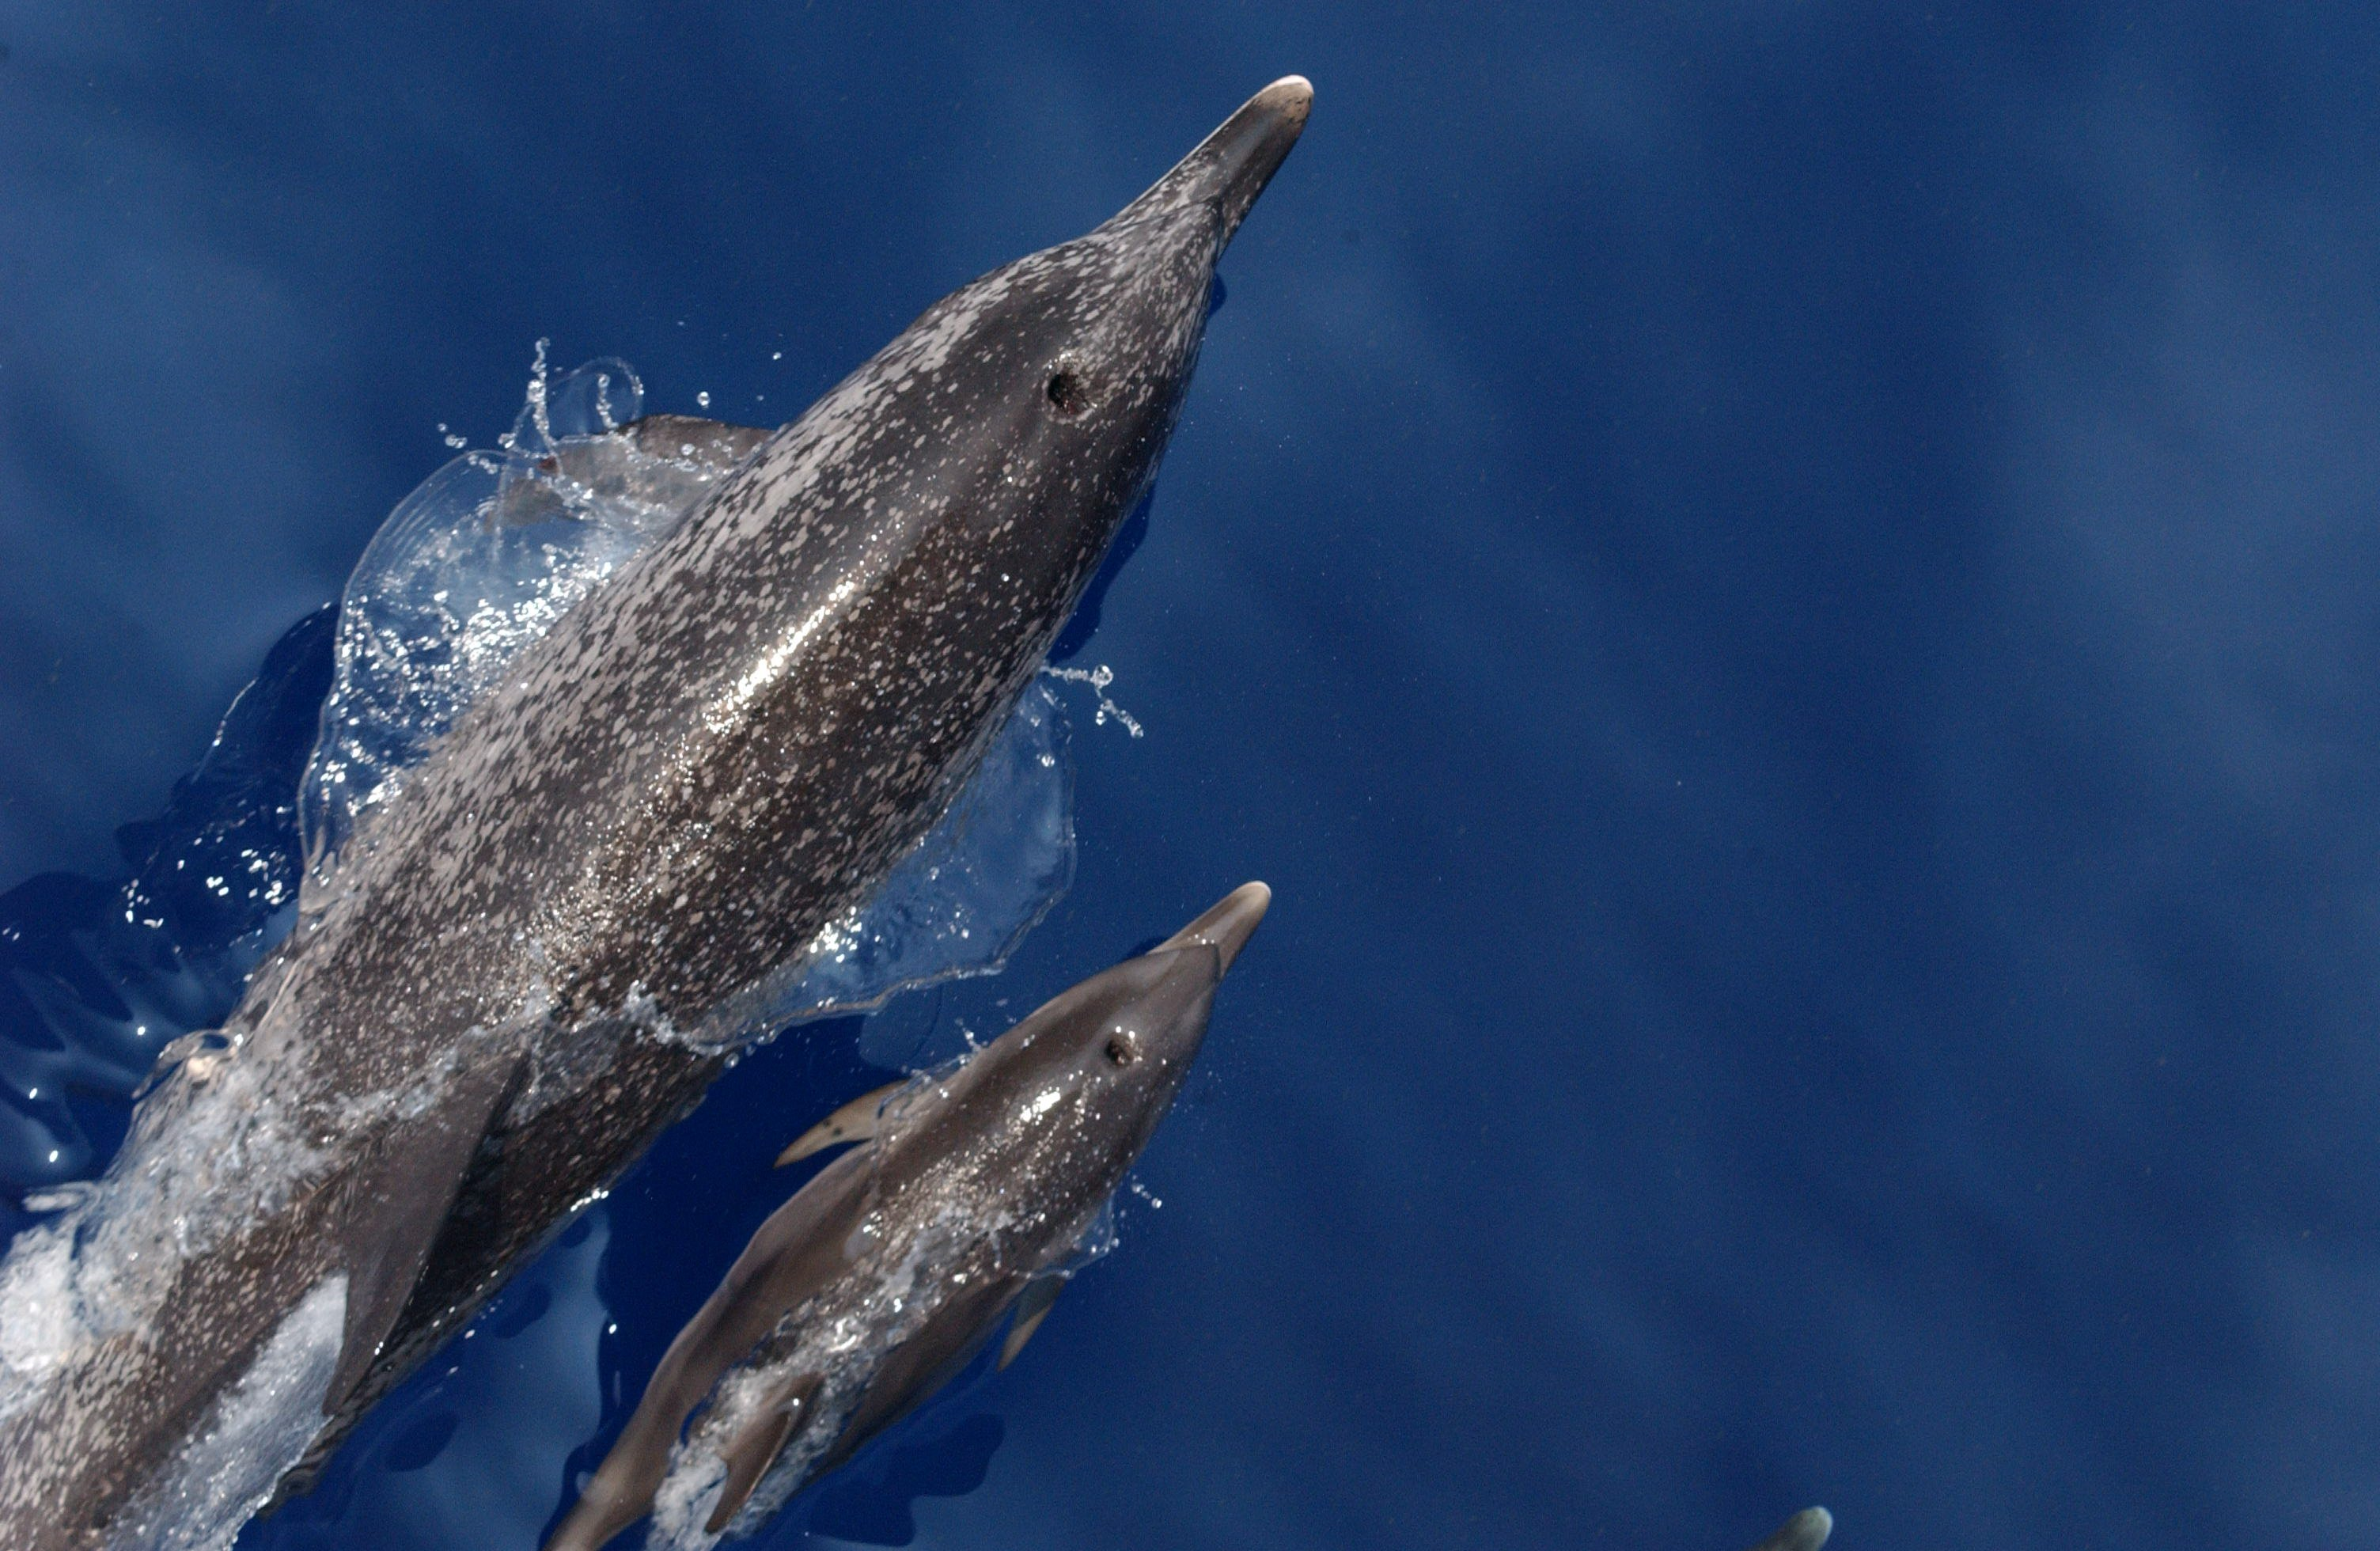dolphin: (0, 62, 1320, 1548), (536, 861, 1278, 1527)
